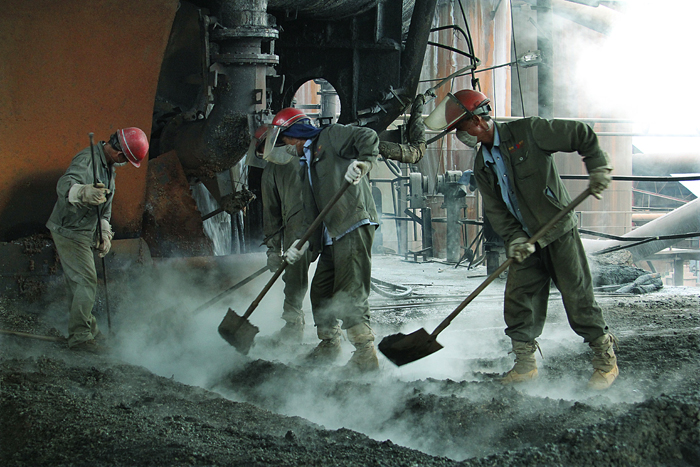safetyhat: (417, 79, 638, 394), (242, 95, 402, 351), (45, 114, 153, 356)
